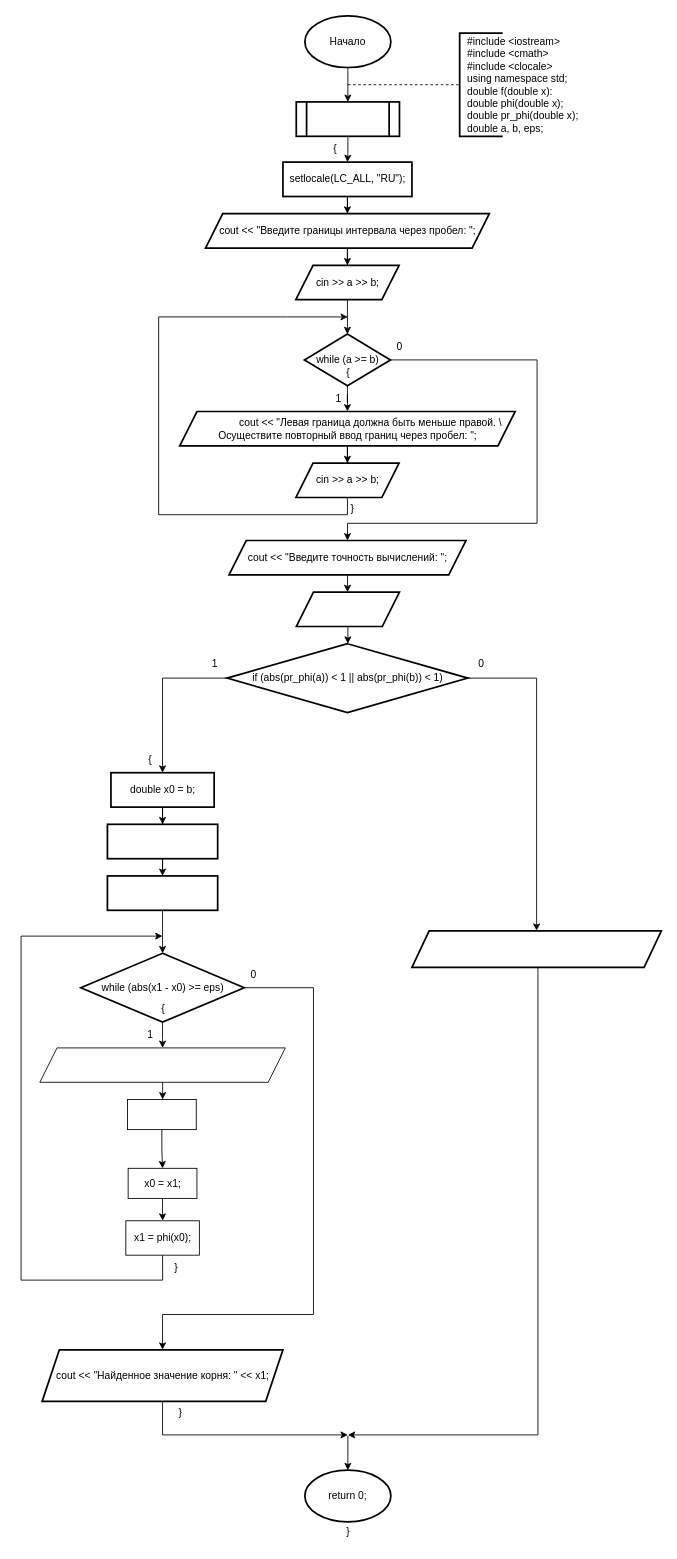
Some shapes in this 677 by 1559 pixel diagram are drawn without their labels. The shapes that lost their labels are listed below. From the top down, each one's centre as x and y in pixels, then its label:
point 347,119: int main()
point 347,609: cin >> eps;
point 162,841: double x1 = phi(x0);
point 162,893: int k = 1;
point 536,948: cout << "Корня на интервале не существует.";
point 162,1064: cout << "Итерация " << k << ':' << x1 << endl;
point 161,1114: k++;
